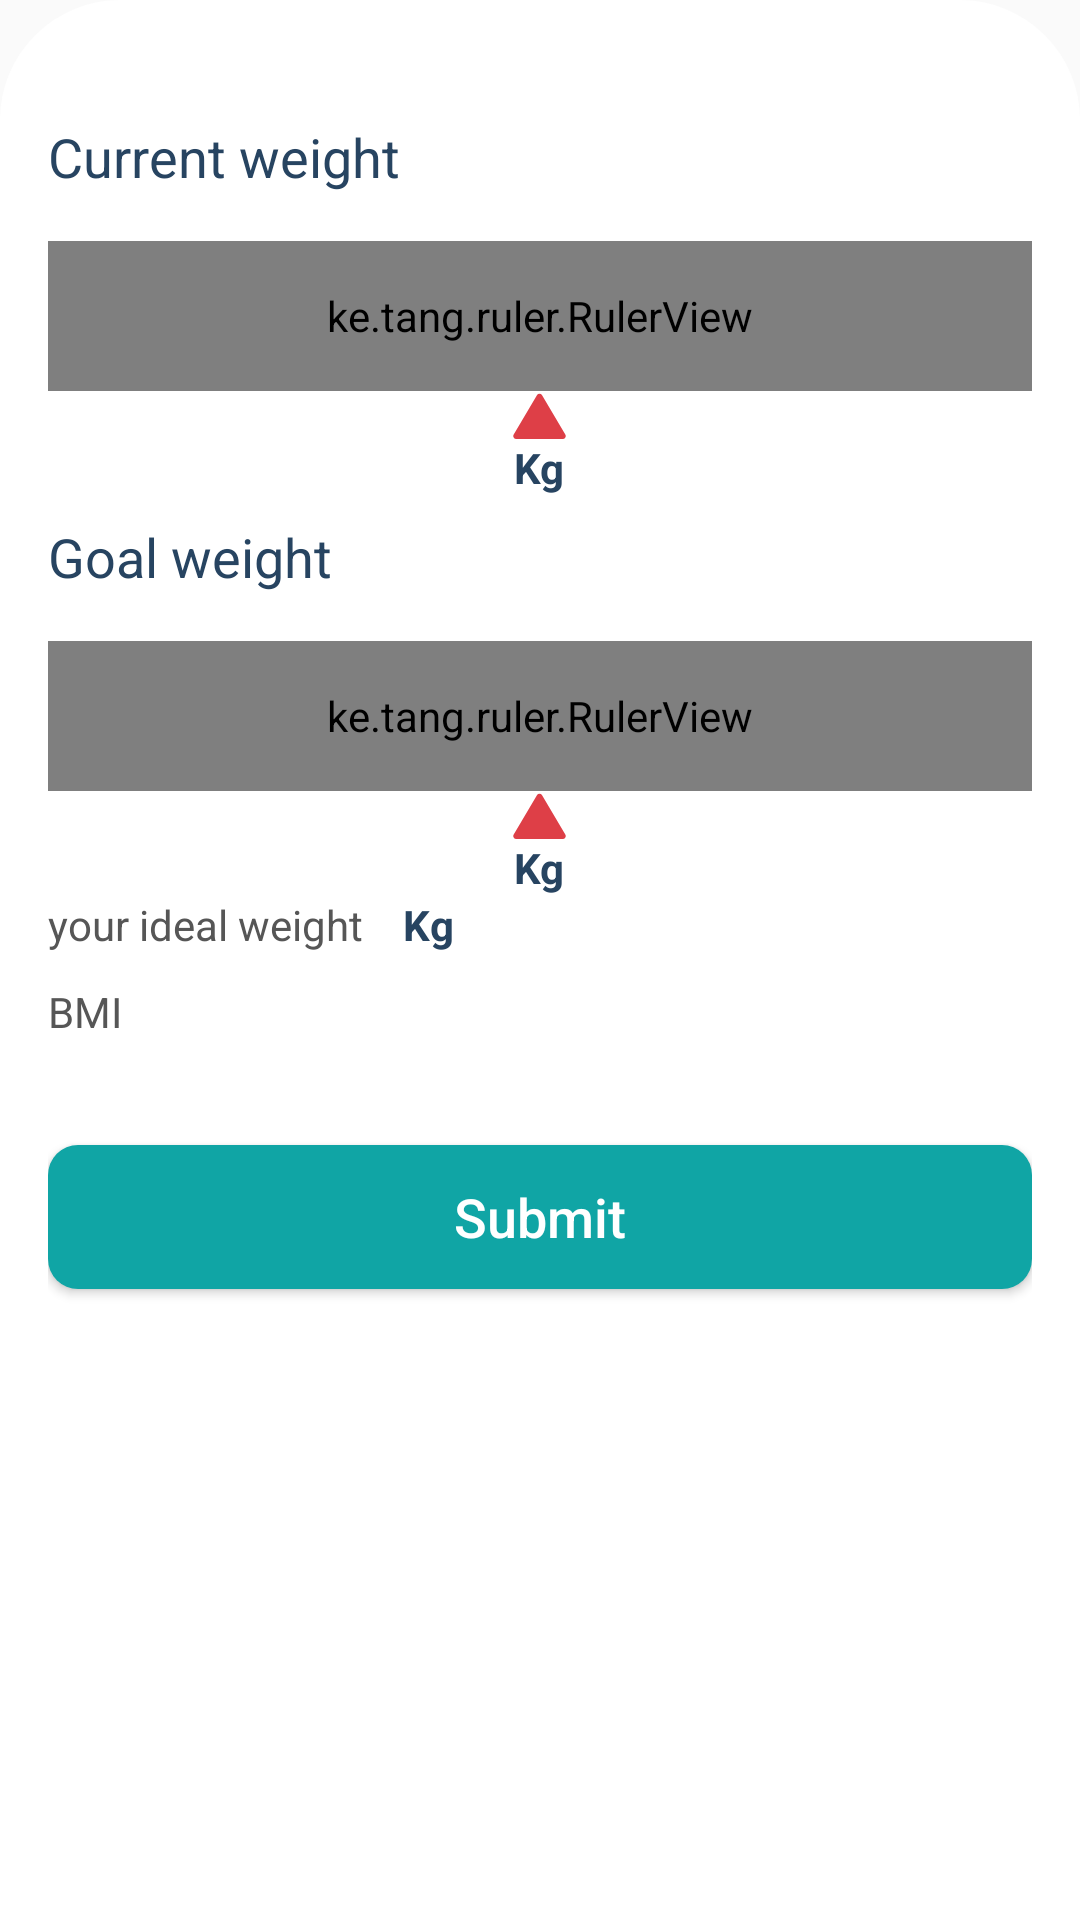

Named icons in this screenshot (1080 × 1920) and their centers, [x,y]:
arrow drop up: [539,416], [539,816]
